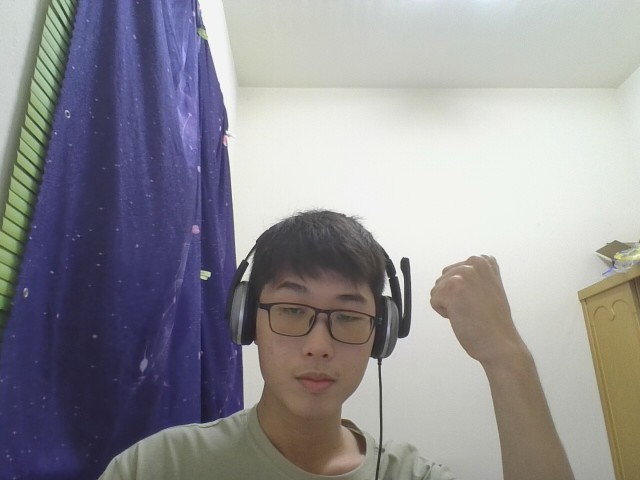No_Helmet: (227, 206, 407, 425)
person: (23, 196, 588, 479)
